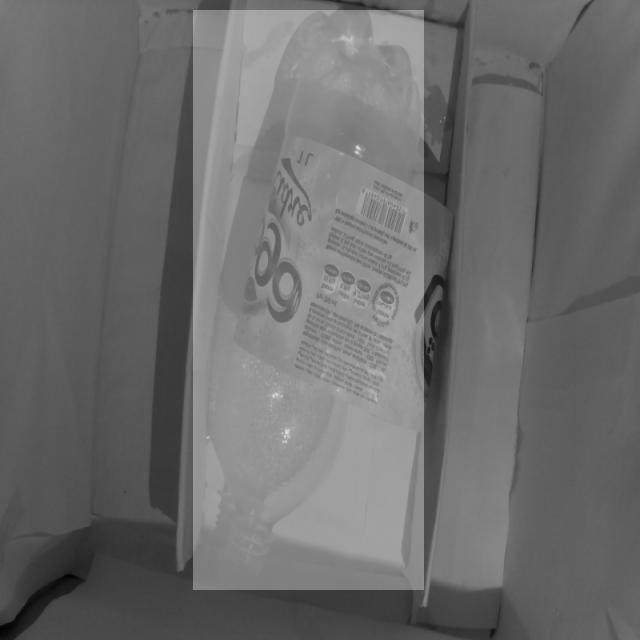bottle: (193, 10, 424, 590)
